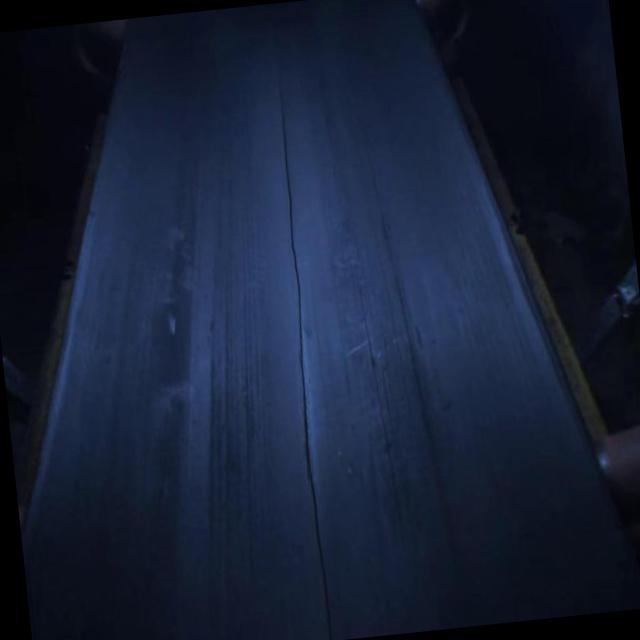Tear: (270, 33, 340, 640)
